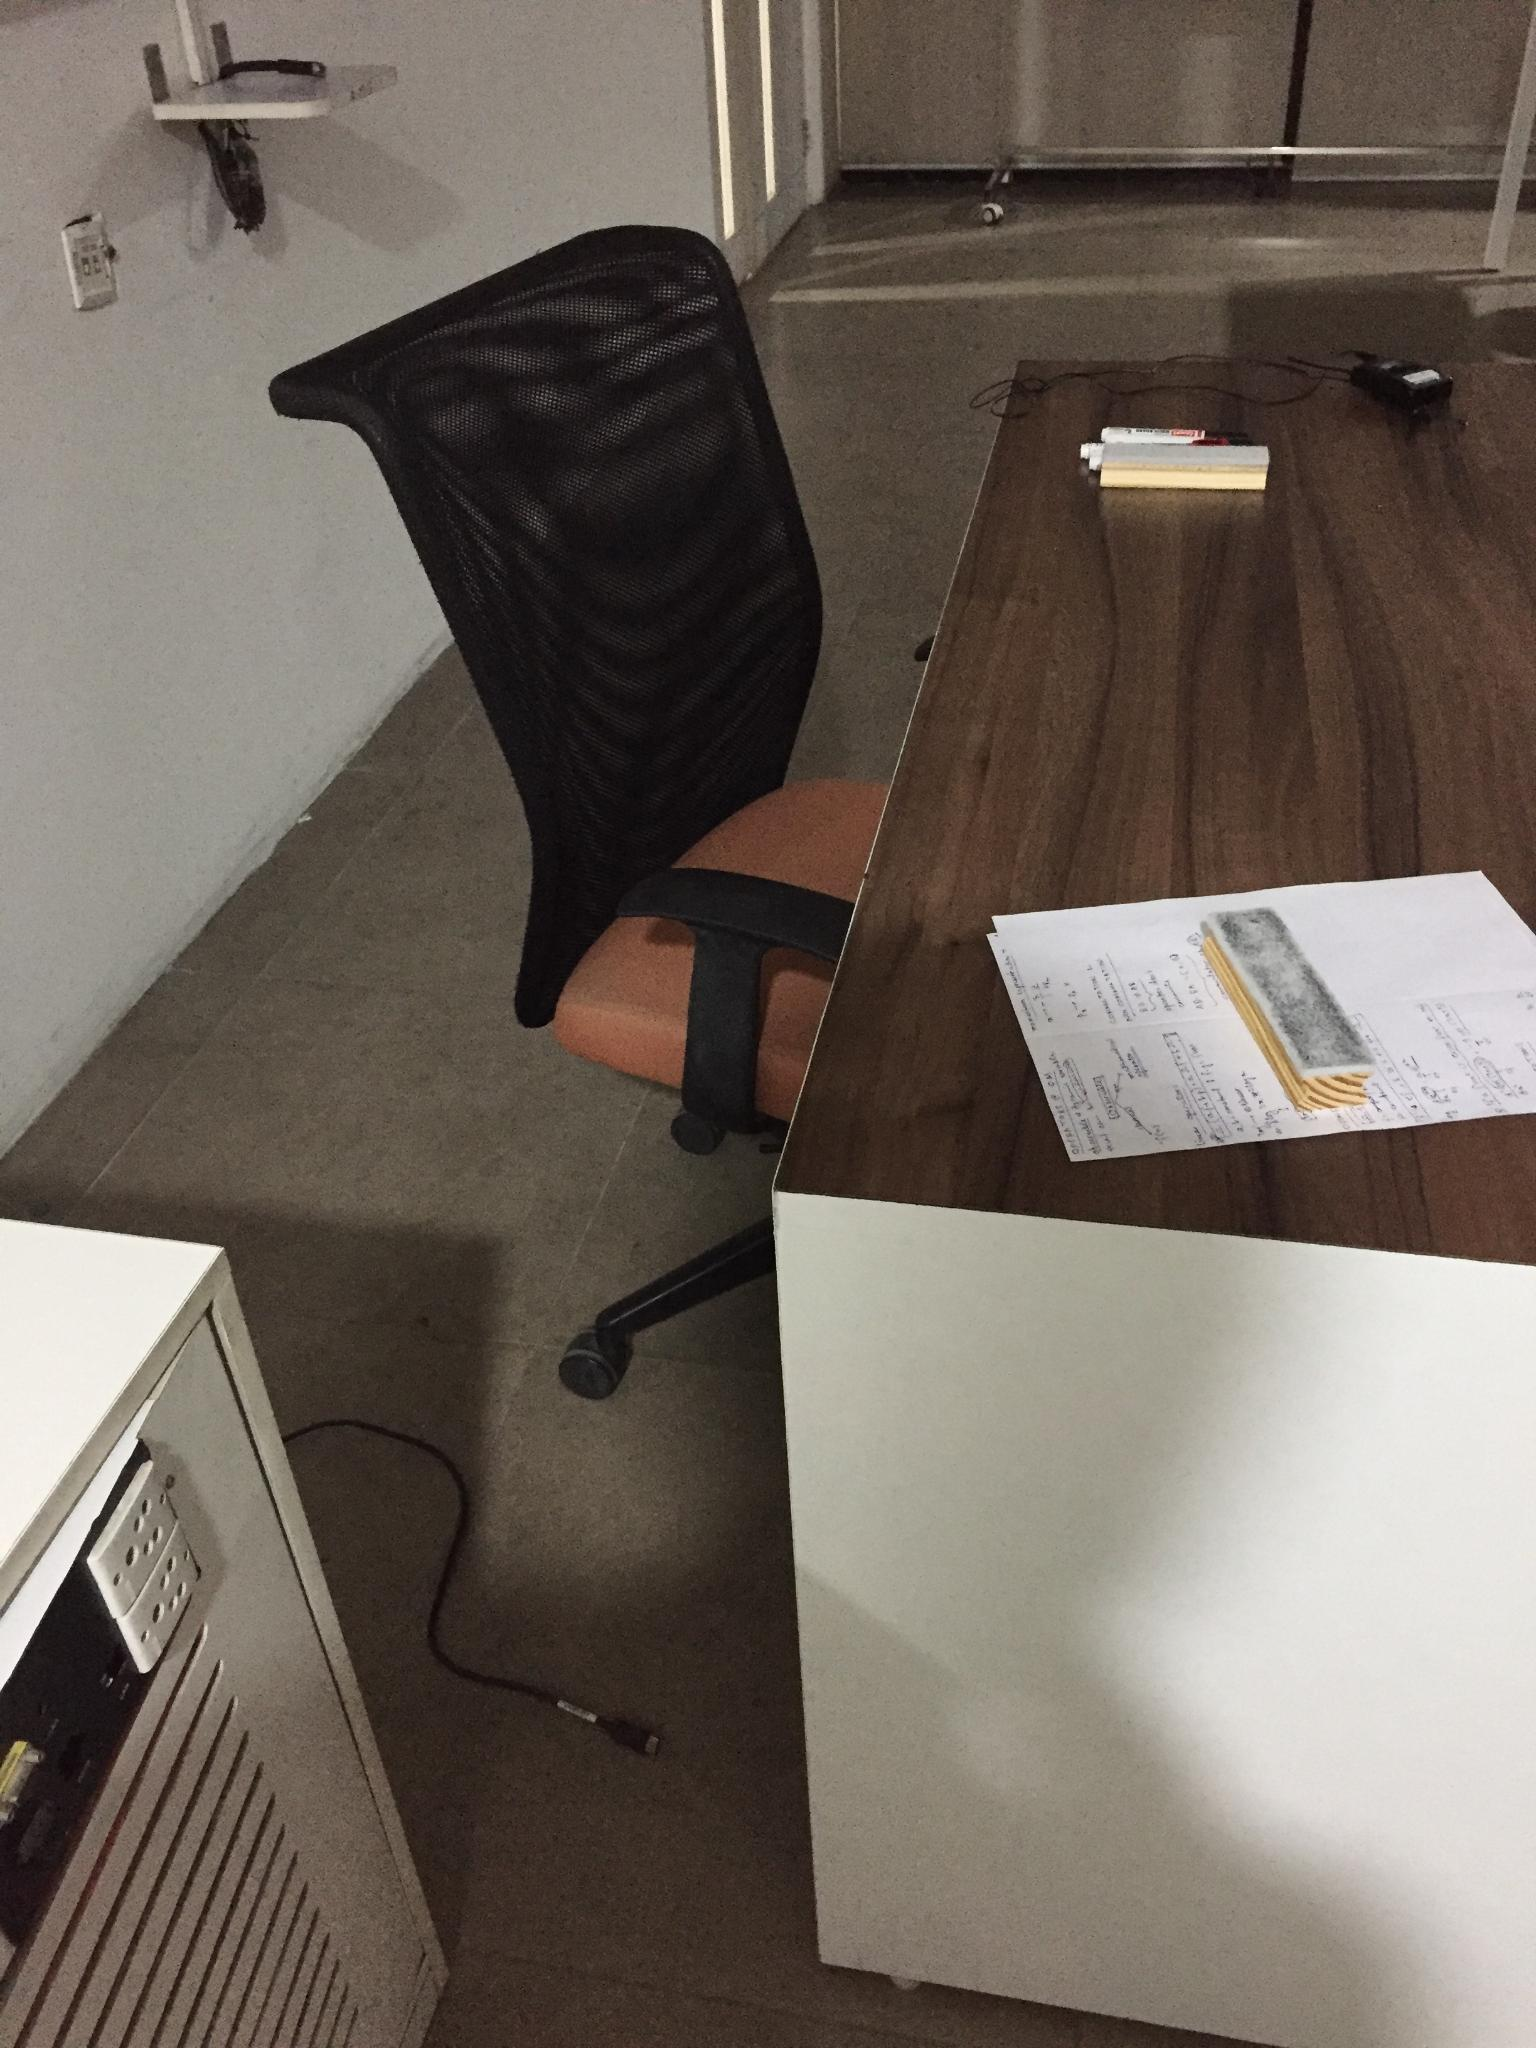chair: (266, 222, 894, 1402)
